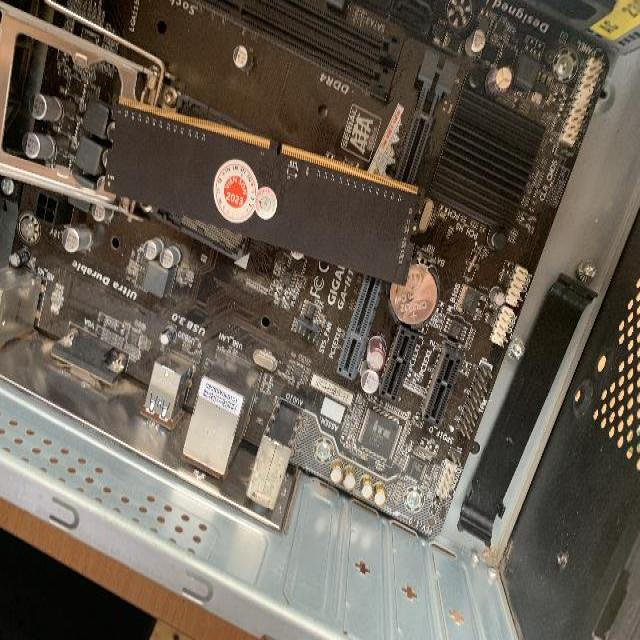Mainboard: (0, 0, 606, 544)
RAM: (106, 95, 423, 288)
